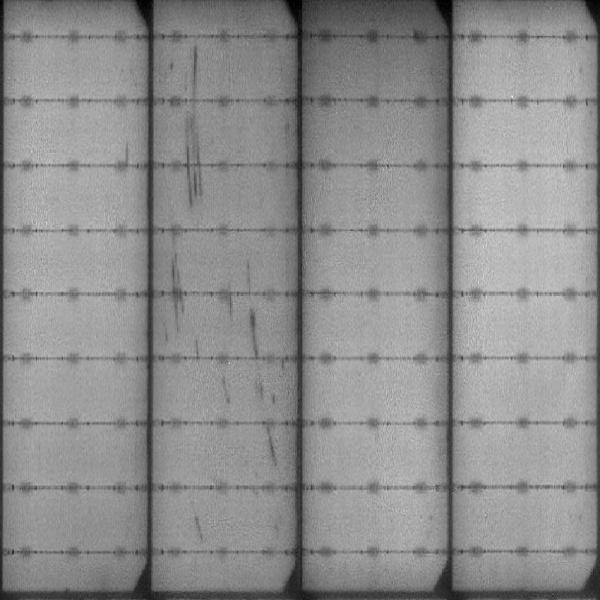scratch: (187, 45, 207, 199), (170, 254, 184, 321), (254, 379, 279, 407), (262, 427, 281, 463), (190, 512, 211, 544), (247, 304, 259, 359), (223, 294, 241, 330), (120, 139, 132, 167)
